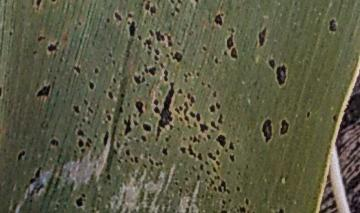tarspot: (155, 82, 175, 142), (261, 119, 273, 143), (276, 64, 287, 88), (37, 84, 52, 98), (258, 26, 266, 48), (124, 115, 132, 136), (215, 134, 227, 147), (280, 119, 289, 136), (31, 183, 44, 194), (154, 30, 166, 41), (136, 101, 144, 117), (226, 33, 234, 49), (129, 20, 136, 38), (214, 13, 223, 27), (267, 57, 276, 71), (48, 42, 59, 53), (48, 137, 60, 147), (184, 99, 189, 123), (188, 143, 196, 158), (329, 18, 337, 32), (16, 150, 26, 161), (72, 65, 82, 76), (113, 10, 123, 21), (174, 50, 183, 62), (143, 38, 152, 50), (74, 197, 84, 207), (210, 120, 220, 130), (199, 122, 208, 133), (230, 48, 239, 59), (35, 166, 42, 179), (75, 128, 85, 137), (103, 131, 109, 146), (35, 1, 43, 12), (87, 80, 95, 91), (227, 140, 235, 151), (150, 4, 157, 16), (143, 123, 152, 132), (106, 90, 114, 100), (133, 75, 141, 85), (27, 176, 36, 184), (163, 70, 169, 82), (179, 146, 187, 155), (217, 112, 223, 124), (207, 153, 216, 161), (221, 180, 227, 192), (73, 104, 80, 114), (77, 137, 84, 147), (149, 66, 156, 76), (161, 146, 168, 156), (183, 71, 189, 82), (93, 66, 100, 75), (305, 110, 311, 120), (197, 151, 203, 161), (209, 177, 215, 187), (37, 35, 45, 42), (87, 106, 94, 114), (209, 104, 216, 112), (239, 206, 247, 213), (144, 1, 150, 10), (148, 28, 154, 37), (155, 160, 164, 166), (190, 95, 196, 104), (190, 110, 196, 119), (332, 113, 337, 123), (144, 64, 149, 74), (174, 7, 181, 14), (83, 98, 89, 106), (154, 106, 160, 114), (159, 62, 165, 70), (215, 102, 221, 110), (229, 154, 235, 162), (107, 172, 112, 181), (134, 155, 139, 164), (196, 112, 201, 121), (214, 56, 219, 65), (278, 207, 285, 213), (153, 99, 159, 106), (167, 40, 173, 47), (141, 135, 147, 142), (105, 115, 112, 121), (84, 141, 91, 147), (107, 51, 113, 58), (201, 45, 207, 52), (176, 40, 182, 47), (126, 13, 134, 18), (137, 33, 142, 41), (87, 136, 92, 144), (192, 135, 197, 143), (199, 163, 204, 171), (216, 158, 221, 166), (245, 197, 250, 205), (118, 107, 124, 113), (178, 105, 184, 111), (146, 50, 152, 56), (205, 170, 211, 176), (106, 17, 111, 24), (112, 77, 117, 84), (141, 77, 146, 84), (155, 49, 160, 56), (175, 107, 180, 114), (125, 149, 130, 156), (149, 158, 154, 165), (186, 92, 191, 99), (193, 121, 198, 128), (216, 148, 221, 155), (228, 27, 235, 32), (236, 186, 241, 193), (221, 198, 226, 205), (116, 141, 120, 149), (32, 49, 37, 55), (81, 192, 86, 198), (86, 119, 91, 125), (120, 92, 125, 98), (154, 56, 160, 61), (134, 120, 139, 126), (178, 88, 183, 94), (104, 109, 110, 114), (113, 149, 118, 155), (142, 163, 147, 169), (165, 52, 170, 58), (143, 20, 148, 26), (80, 148, 85, 154), (224, 147, 229, 153), (215, 175, 221, 180), (185, 207, 190, 213), (1, 84, 3, 98), (130, 156, 134, 163), (213, 91, 217, 98), (218, 186, 222, 193), (214, 185, 218, 192), (179, 187, 183, 194), (197, 173, 200, 182), (8, 31, 13, 36), (165, 137, 170, 142), (171, 12, 176, 17), (93, 146, 98, 151), (117, 159, 122, 164), (123, 158, 128, 163), (188, 136, 193, 141), (182, 136, 187, 141), (212, 167, 217, 172), (228, 198, 233, 203), (201, 194, 206, 199), (147, 152, 152, 157), (169, 1, 175, 5), (170, 51, 174, 57), (112, 59, 116, 65), (224, 50, 228, 56), (196, 71, 200, 77), (188, 71, 192, 77), (207, 134, 211, 140), (227, 188, 231, 194), (29, 198, 33, 204), (127, 20, 131, 25), (78, 21, 82, 26), (170, 125, 174, 130), (178, 117, 183, 121), (124, 142, 128, 147), (178, 1, 183, 5), (127, 103, 131, 108), (201, 81, 205, 86), (206, 84, 211, 88), (187, 125, 192, 129), (135, 139, 140, 143), (197, 139, 201, 144), (205, 160, 209, 165), (221, 205, 225, 210), (51, 1, 57, 4), (194, 1, 200, 4), (185, 176, 188, 182), (221, 210, 227, 213), (175, 181, 178, 186), (238, 171, 241, 176), (79, 124, 83, 127), (83, 119, 86, 123), (94, 134, 97, 138), (146, 84, 150, 87), (177, 128, 180, 132), (133, 89, 136, 93), (205, 178, 208, 182), (190, 104, 193, 107), (74, 150, 77, 153)
